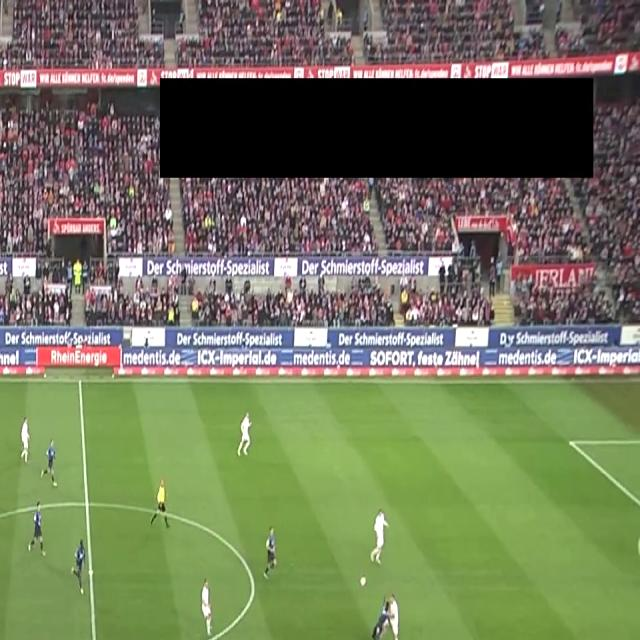ball: (356, 574, 370, 591)
referee: (146, 474, 172, 534)
soccer-player: (364, 504, 393, 571), (66, 534, 94, 602), (28, 499, 53, 558), (261, 524, 284, 584), (197, 575, 218, 639), (236, 408, 259, 462), (41, 436, 64, 490), (14, 415, 34, 469), (387, 589, 406, 640), (369, 590, 387, 640), (0, 451, 2, 511)
